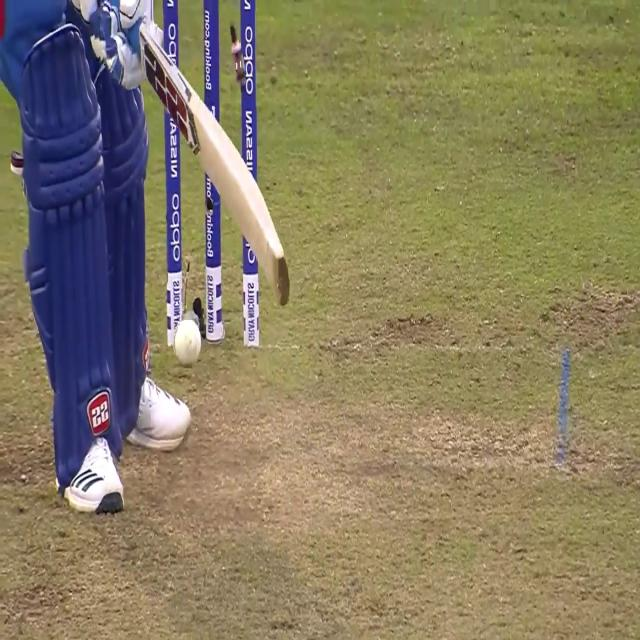ball: (174, 320, 200, 368)
